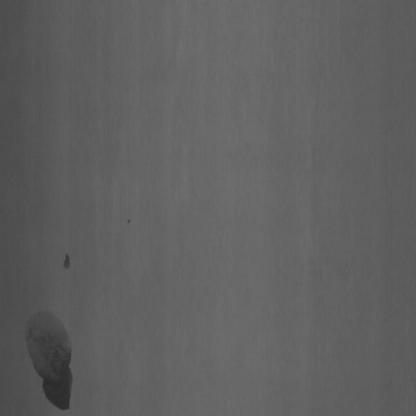oil_spot: (21, 304, 80, 413), (63, 252, 78, 270)
